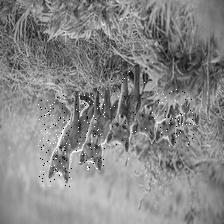fox: (38, 94, 72, 186), (76, 93, 105, 169), (157, 89, 195, 146), (110, 71, 133, 147), (128, 76, 155, 139)
